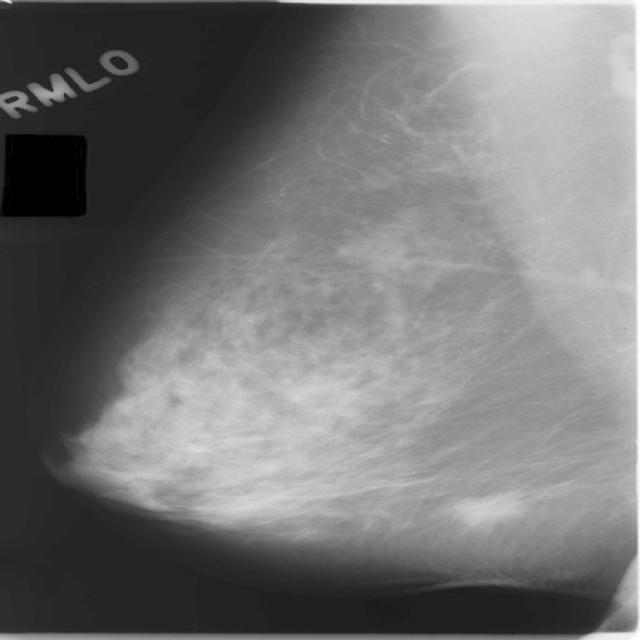tumour: (446, 490, 525, 528)
